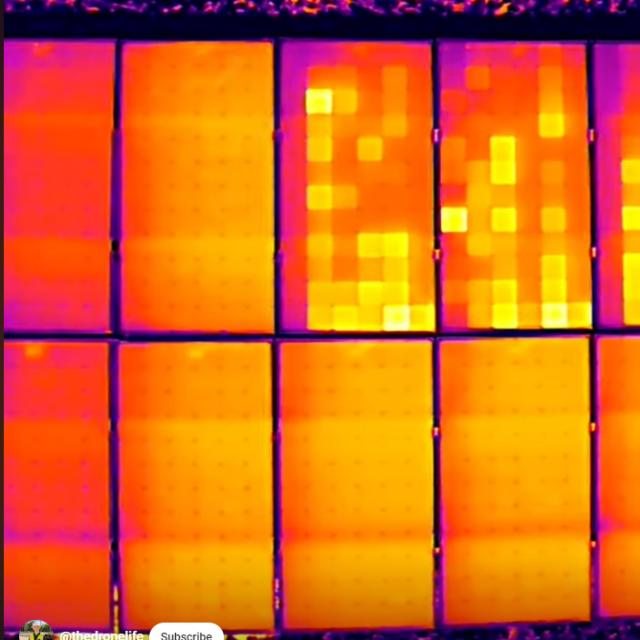hotspot group: (303, 75, 437, 328), (448, 108, 593, 326), (608, 153, 640, 326)
panel with hotspots: (274, 34, 446, 335), (435, 33, 601, 337)
